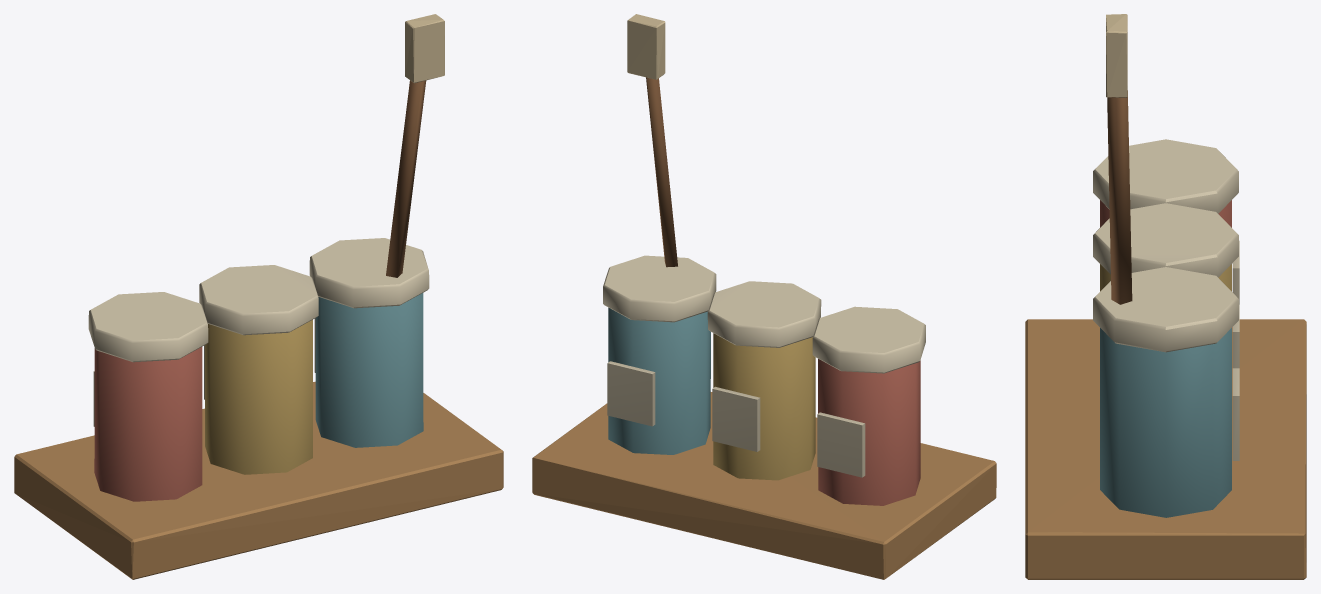
Rendered from paint_low.glb.
3 renders of one model, left to right at view 1: azimuth 30°, elevation 25°; view 2: azimuth 150°, elevation 25°; view 3: azimuth 270°, elevation 25°, orthographic. The views are drawn at different scales.
Size of the model in its own units: 0.29 by 0.336 by 0.16.
